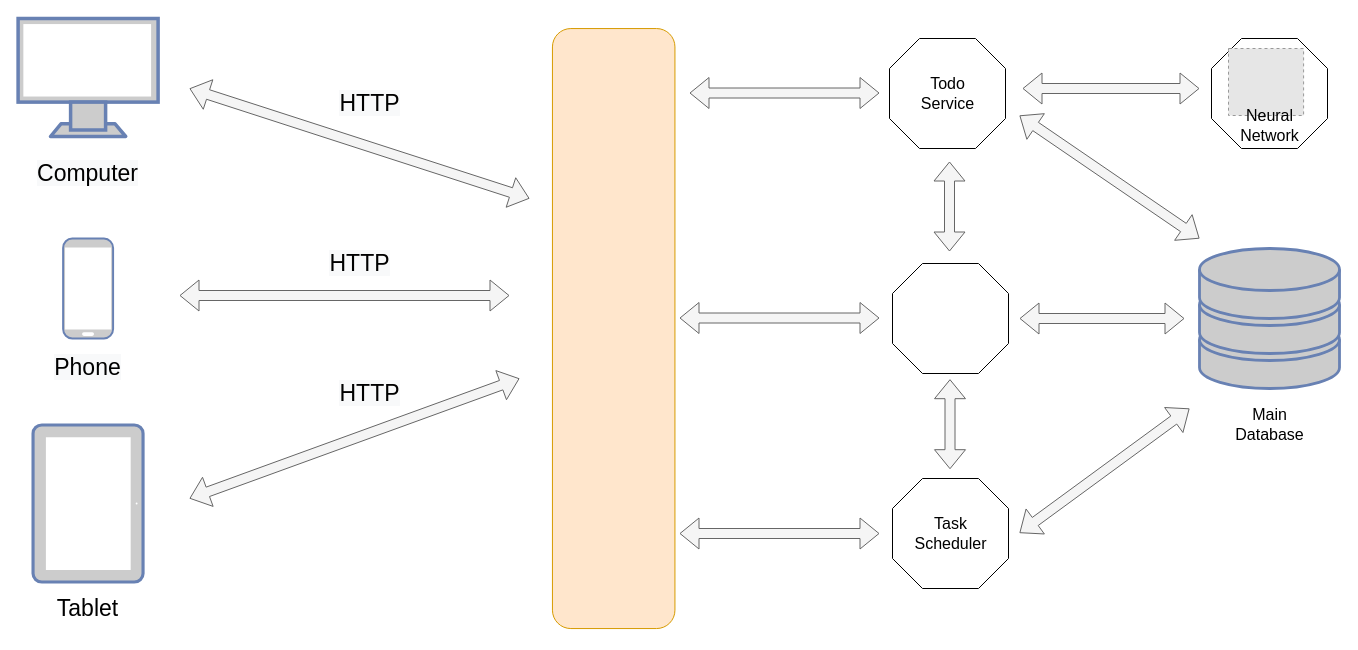
Some shapes in this 1358 by 650 pixel diagram are drawn without their labels. Grey dashed boxes stand in for pictures. Here are the shapes that lost their labels. From the top down, the centre of each, then its label:
(613,328): API
(950,318): User Service
